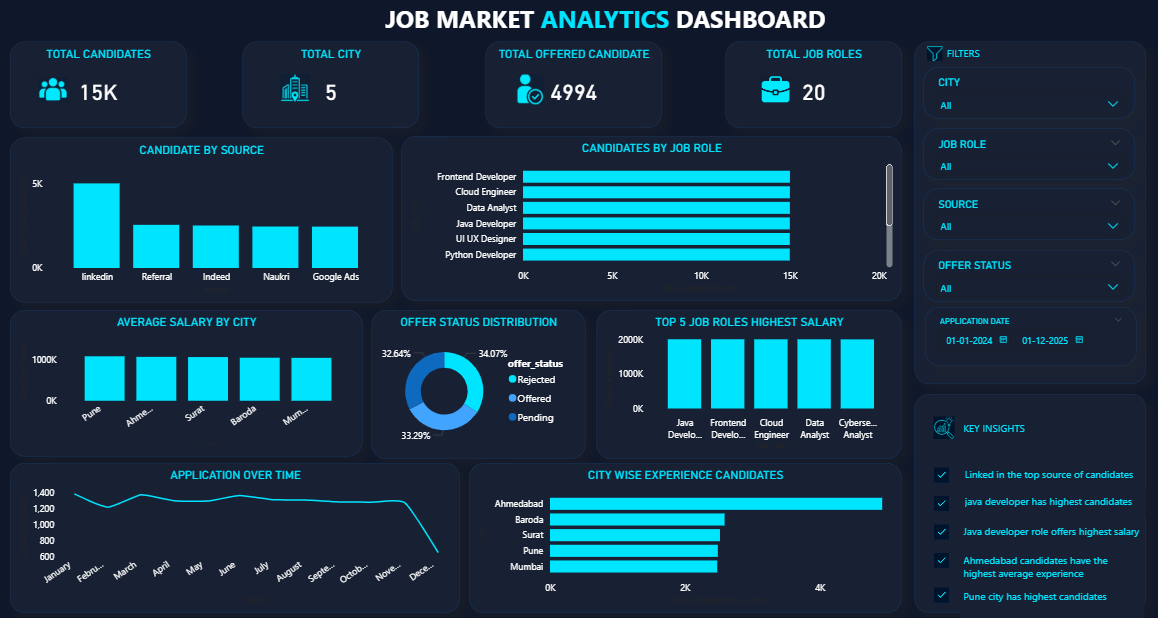

The dashboard page shown, as its layout file describes it:
{"tool":"powerbi","page":{"name":"Page 1","canvas":[1550,830],"ordinal":0},"visuals":[{"type":"textbox","box":[498.3,0,623.3,55],"z":0},{"type":"card","title":"TOTAL CANDIDATES","fields":{"Values":["Count(Sheet1.candidate_id)"]},"box":[16.7,58.3,235,115],"z":1000},{"type":"card","title":"TOTAL CITY","fields":{"Values":["Count(Sheet1.city)"]},"box":[325,58.3,235,115],"z":2000},{"type":"card","title":"TOTAL OFFERED CANDIDATE","fields":{"Values":["CountNonNull(Sheet1.offer_status)"]},"box":[650,58.3,235,115],"z":3000},{"type":"card","title":"TOTAL JOB ROLES","fields":{"Values":["Count(Sheet1.job_role)"]},"box":[970,58.3,235,115],"z":4000},{"type":"textbox","box":[1221.7,58.3,308.3,456.7],"z":5000},{"type":"clusteredColumnChart","title":"CANDIDATE BY SOURCE","fields":{"Category":["Sheet1.source"],"Y":["Count(Sheet1.candidate_id)"]},"box":[16.7,185,510,220],"z":6000},{"type":"image","box":[53.3,101.7,40,40],"z":7000},{"type":"image","box":[375,98.3,40,43.3],"z":8000},{"type":"image","box":[690,101.7,40,40],"z":9000},{"type":"image","box":[1016.7,100,40,43.3],"z":10000},{"type":"clusteredBarChart","title":"CANDIDATES BY JOB ROLE","fields":{"Category":["Sheet1.job_role"],"Y":["Max(Sheet1.candidate_id)"]},"box":[538.3,183.3,666.7,220],"z":11000},{"type":"clusteredColumnChart","title":"AVERAGE SALARY BY CITY","fields":{"Y":["Avg(Sheet1.expected_salary)"],"Category":["Sheet1.city"]},"box":[16.7,415,470,195],"z":12000},{"type":"donutChart","title":"OFFER STATUS DISTRIBUTION","fields":{"Category":["Sheet1.offer_status"],"Y":["CountNonNull(Sheet1.candidate_id)"]},"box":[498.3,415,285,198.3],"z":13000},{"type":"clusteredColumnChart","title":"TOP 5 JOB ROLES HIGHEST SALARY","fields":{"Y":["Max(Sheet1.expected_salary)"],"Category":["Sheet1.job_role"]},"box":[798.3,415,406.7,198.3],"z":14000},{"type":"lineChart","title":"APPLICATION OVER TIME","fields":{"Category":["Sheet1.application_date.Variation.Date Hierarchy.Month"],"Y":["CountNonNull(Sheet1.candidate_id)"]},"box":[16.7,620,600,200],"z":15000},{"type":"clusteredBarChart","title":"CITY WISE EXPERIENCE CANDIDATES","fields":{"Category":["Sheet1.city"],"Y":["CountNonNull(Sheet1.experience_years)"]},"box":[628.3,620,576.7,200],"z":16000},{"type":"textbox","box":[1260,58.3,71.7,31.7],"z":17000},{"type":"slicer","fields":{"Values":["Sheet1.city"]},"box":[1233.3,91.7,281.7,68.3],"z":18000},{"type":"slicer","fields":{"Values":["Sheet1.job_role"]},"box":[1233.3,173.3,281.7,68.3],"z":19000},{"type":"slicer","fields":{"Values":["Sheet1.source"]},"box":[1233.3,253.3,281.7,68.3],"z":20000},{"type":"slicer","fields":{"Values":["Sheet1.offer_status"]},"box":[1233.3,335,281.7,68.3],"z":21000},{"type":"image","box":[1233.3,63.3,30,20],"z":22000},{"type":"textbox","box":[1221.7,528.3,308.3,291.7],"z":23000},{"type":"textbox","box":[1281.7,558.3,115,35],"z":24000},{"type":"image","box":[1243.3,558.3,35,30],"z":25000},{"type":"textbox","box":[1283.3,620,245,36.7],"z":26000},{"type":"textbox","box":[1283.3,655,246.7,35],"z":27000},{"type":"textbox","box":[1281.7,695,246.7,46.7],"z":28000},{"type":"textbox","box":[1281.7,733.3,246.7,46.7],"z":29000},{"type":"slicer","fields":{"Values":["Sheet1.application_date"]},"box":[1235,411.7,281.7,78.3],"z":30000},{"type":"image","box":[1238.3,625,40,20],"z":31000},{"type":"image","box":[1238.3,663.3,40,20],"z":32000},{"type":"image","box":[1238.3,701.7,40,20],"z":33000},{"type":"image","box":[1238.3,740,40,20],"z":34000},{"type":"image","box":[1238.3,786.7,40,20],"z":35000},{"type":"textbox","box":[1281.7,781.7,246.7,46.7],"z":36000}]}

Visuals, with their boxes in screenshot pixels (x1, y1, x2, y2), scaled from the page's 1550x830 canvas onto the 1158x618 screenshot:
textbox: x1=372, y1=0, x2=838, y2=41
"TOTAL CANDIDATES" card: x1=12, y1=43, x2=188, y2=129
"TOTAL CITY" card: x1=243, y1=43, x2=418, y2=129
"TOTAL OFFERED CANDIDATE" card: x1=486, y1=43, x2=661, y2=129
"TOTAL JOB ROLES" card: x1=725, y1=43, x2=900, y2=129
textbox: x1=913, y1=43, x2=1143, y2=383
"CANDIDATE BY SOURCE" clusteredColumnChart: x1=12, y1=138, x2=393, y2=302
image: x1=40, y1=76, x2=70, y2=106
image: x1=280, y1=73, x2=310, y2=105
image: x1=515, y1=76, x2=545, y2=106
image: x1=760, y1=74, x2=789, y2=107
"CANDIDATES BY JOB ROLE" clusteredBarChart: x1=402, y1=136, x2=900, y2=300
"AVERAGE SALARY BY CITY" clusteredColumnChart: x1=12, y1=309, x2=364, y2=454
"OFFER STATUS DISTRIBUTION" donutChart: x1=372, y1=309, x2=585, y2=457
"TOP 5 JOB ROLES HIGHEST SALARY" clusteredColumnChart: x1=596, y1=309, x2=900, y2=457
"APPLICATION OVER TIME" lineChart: x1=12, y1=462, x2=461, y2=611
"CITY WISE EXPERIENCE CANDIDATES" clusteredBarChart: x1=469, y1=462, x2=900, y2=611
textbox: x1=941, y1=43, x2=995, y2=67
slicer - Sheet1.city: x1=921, y1=68, x2=1132, y2=119
slicer - Sheet1.job_role: x1=921, y1=129, x2=1132, y2=180
slicer - Sheet1.source: x1=921, y1=189, x2=1132, y2=239
slicer - Sheet1.offer_status: x1=921, y1=249, x2=1132, y2=300
image: x1=921, y1=47, x2=944, y2=62
textbox: x1=913, y1=393, x2=1143, y2=611
textbox: x1=958, y1=416, x2=1043, y2=442
image: x1=929, y1=416, x2=955, y2=438
textbox: x1=959, y1=462, x2=1142, y2=489
textbox: x1=959, y1=488, x2=1143, y2=514
textbox: x1=958, y1=517, x2=1142, y2=552
textbox: x1=958, y1=546, x2=1142, y2=581
slicer - Sheet1.application_date: x1=923, y1=307, x2=1133, y2=365
image: x1=925, y1=465, x2=955, y2=480
image: x1=925, y1=494, x2=955, y2=509
image: x1=925, y1=522, x2=955, y2=537
image: x1=925, y1=551, x2=955, y2=566
image: x1=925, y1=586, x2=955, y2=601
textbox: x1=958, y1=582, x2=1142, y2=617
